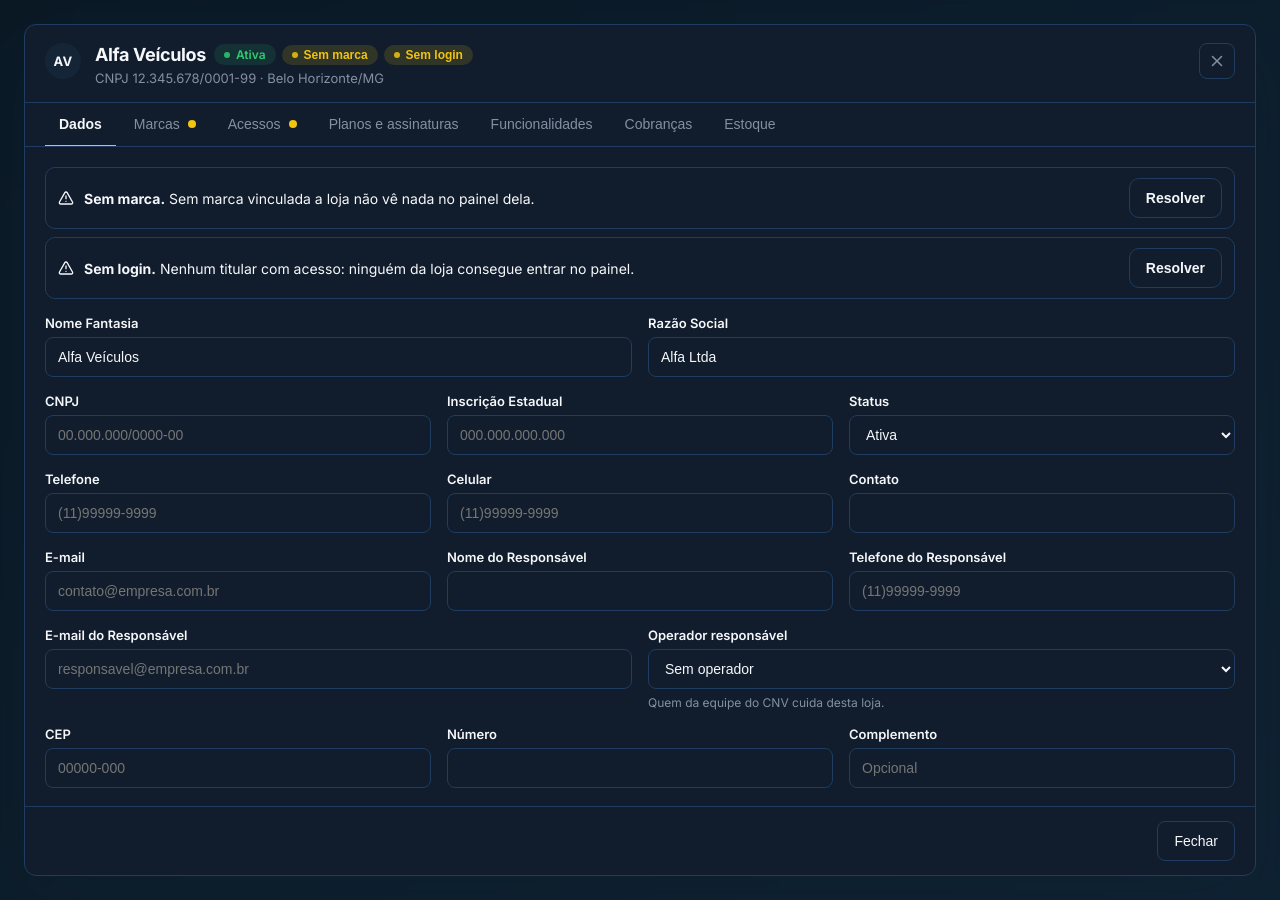
Scenario: ficha da concessionária › mostra nome, CNPJ, cidade, situação e as pendências; as outras abas só carregam ao abrir
Expected: the text "CNPJ 12.345.678/0001-99 · Belo Horizonte/MG" is shown, x1=95 y1=70 x2=384 y2=86
Expected: the button "Sem login" is shown, x1=384 y1=45 x2=473 y2=65
// O selo de pendência leva para a aba que resolve.
Click the button "Sem marca". click: (330, 55)
box: x1=282 y1=45 x2=378 y2=65
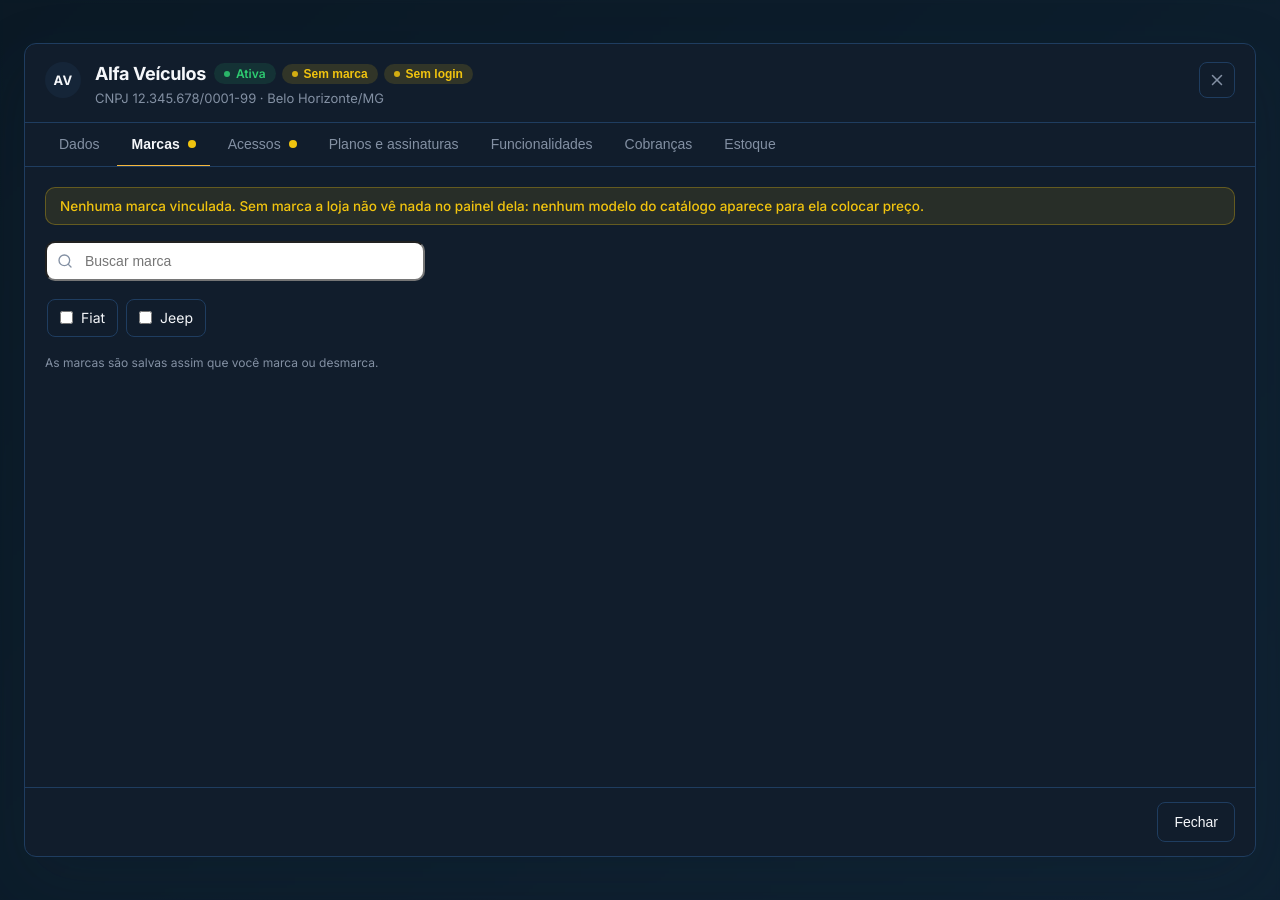
Expected: the text "Sem marca a loja não vê nada no painel dela" is shown, x1=60 y1=198 x2=924 y2=214
Click the checkbox labelled "Fiat". click: (66, 318)
box: x1=60 y1=311 x2=73 y2=324
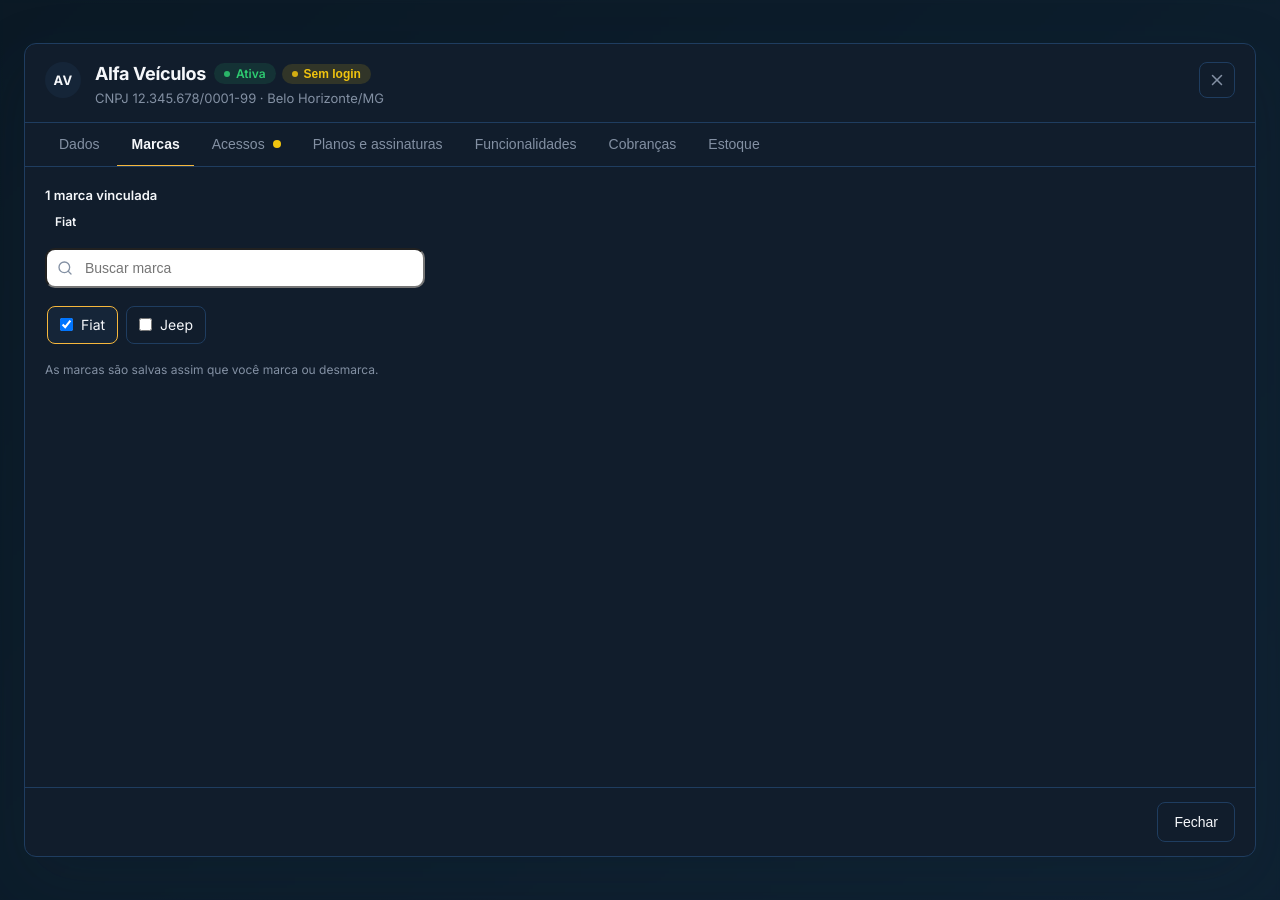
Expected: the button "Sem marca" is gone
Expected: the text "1 marca vinculada" is shown, x1=45 y1=187 x2=157 y2=203
